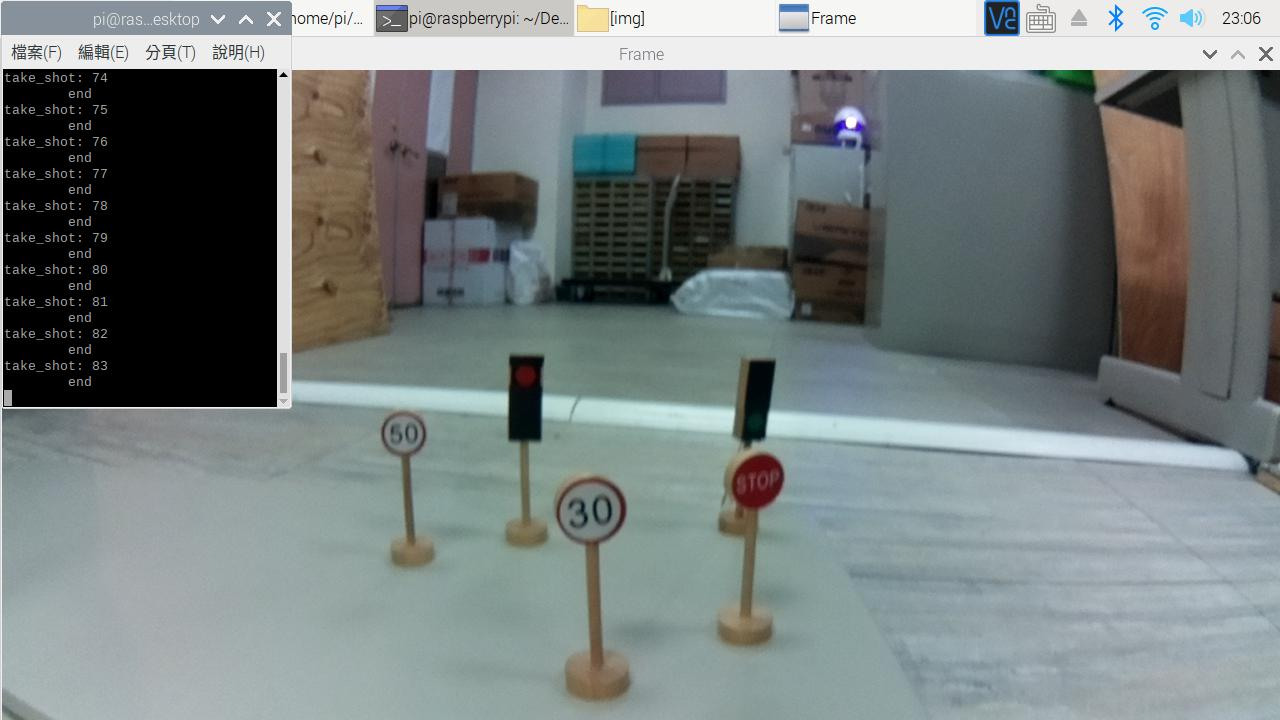Green: (730, 352, 791, 447), (503, 349, 550, 450)
Speed30: (557, 482, 626, 549)
Speed50: (383, 408, 437, 458)
Stop: (724, 449, 792, 522)
